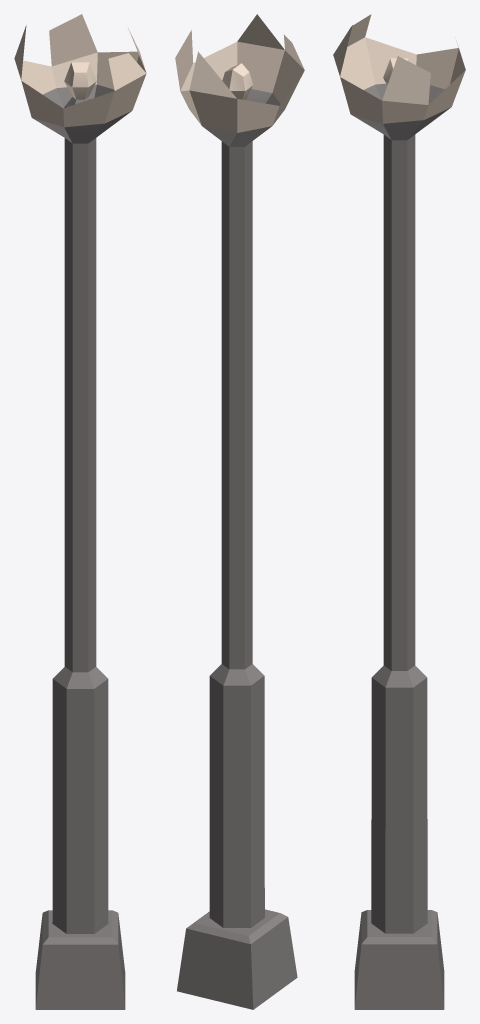
The model's file is apocalypse_lamp-city-apocalypse-a.fbx.
3 renders of one model, left to right at view 1: azimuth 90°, elevation 25°; view 2: azimuth 150°, elevation 25°; view 3: azimuth 270°, elevation 25°, orthographic.
Visible parts, largest first — view 1: apocalypse_lamp_city_apocalypse_a; view 2: apocalypse_lamp_city_apocalypse_a; view 3: apocalypse_lamp_city_apocalypse_a.
Boxes of the visible parts, x1,y1,x2,y2 form: apocalypse_lamp_city_apocalypse_a: (14, 14, 146, 1009); apocalypse_lamp_city_apocalypse_a: (175, 14, 304, 1009); apocalypse_lamp_city_apocalypse_a: (333, 14, 465, 1009).
Bounding box in the file's own units: 22.71 × 200 × 24.86.
